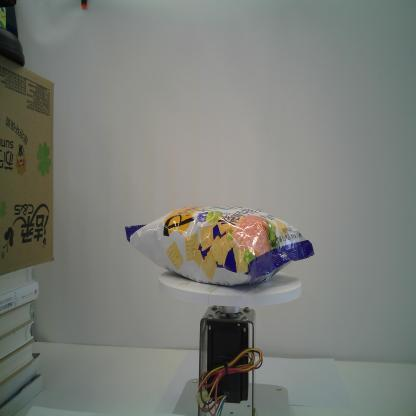Puffed Food: (124, 203, 316, 285)
